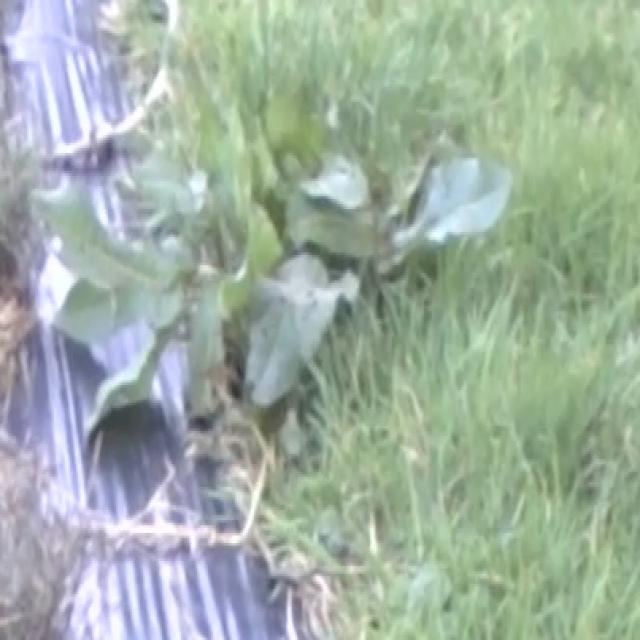organic waste: (26, 72, 525, 444), (277, 102, 521, 423), (32, 134, 289, 431)
